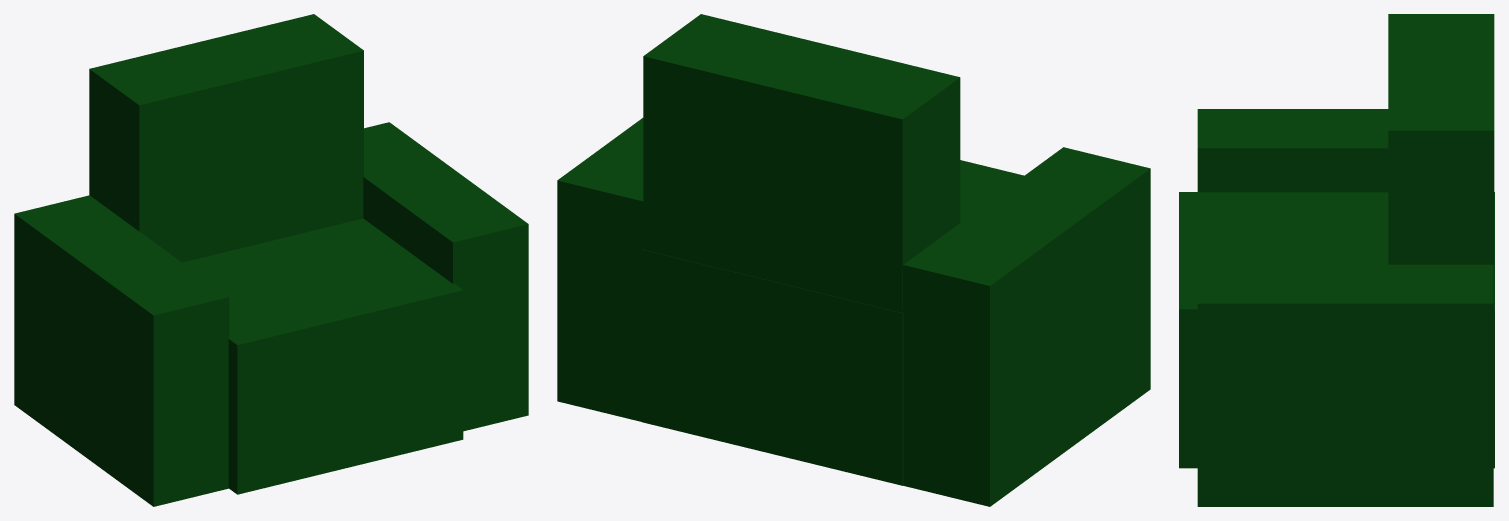
File: Furniture_armchair_GameJam.fbx
The picture shows the model from 3 angles, left to right: view 1: azimuth 30°, elevation 25°; view 2: azimuth 150°, elevation 25°; view 3: azimuth 270°, elevation 25°; orthographic projection. The views are drawn at different scales.
Parts seen in each view (by area): view 1: arm3; view 2: arm3; view 3: arm3.
Boxes of the visible parts, x1=… form: arm3: x1=14, y1=14, x2=528, y2=506; arm3: x1=557, y1=14, x2=1150, y2=506; arm3: x1=1179, y1=14, x2=1494, y2=506.
Size of the model in its own units: 3.83 by 3.1 by 2.63.
